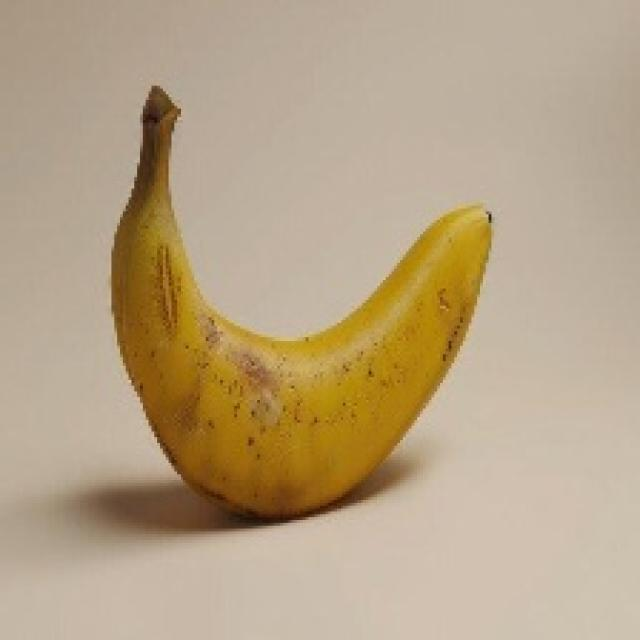Banana: (109, 83, 494, 520)
